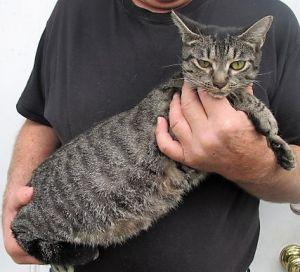bengal: (164, 7, 278, 100)
